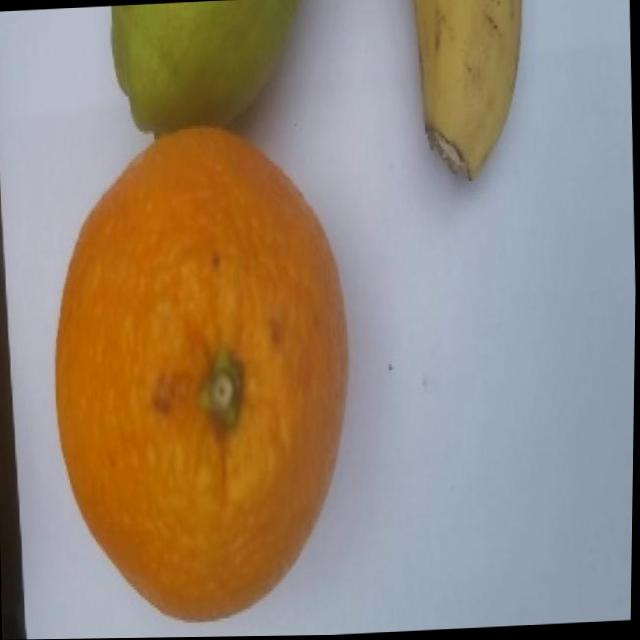Banana: (409, 0, 528, 186)
Orange: (43, 119, 361, 631)
